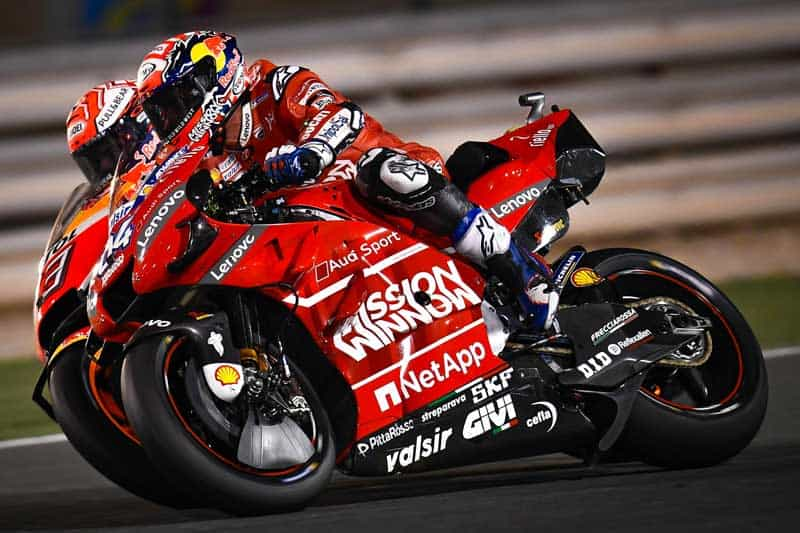helmet: (136, 32, 245, 112), (44, 80, 136, 154)
